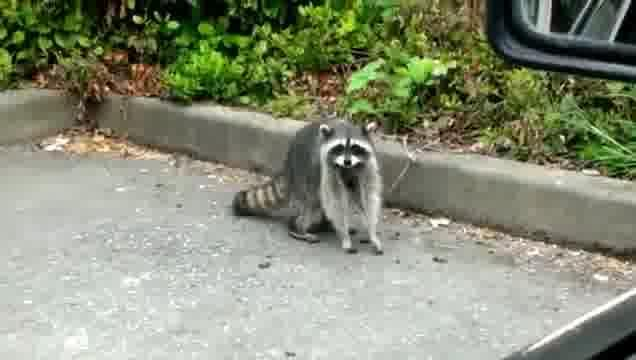raccoon: (231, 119, 385, 254)
